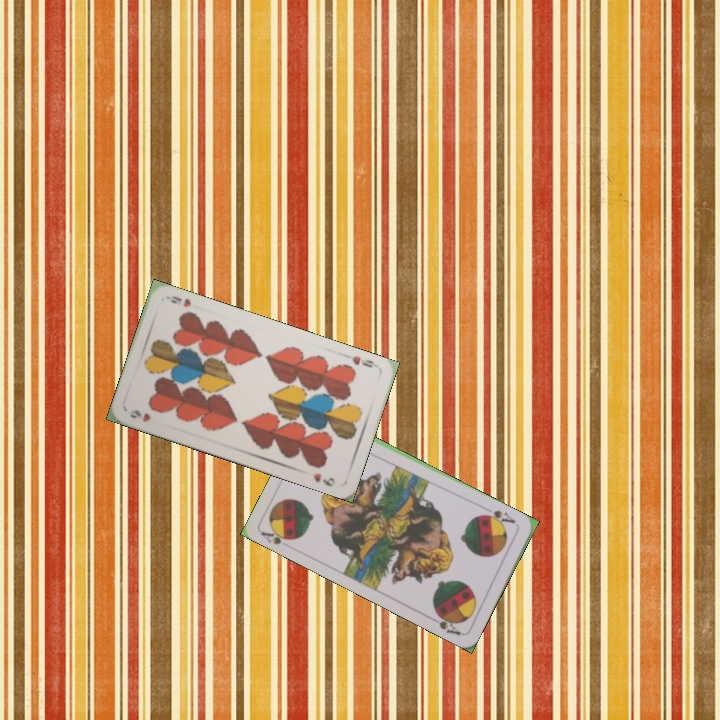H9: (126, 406, 153, 425), (348, 352, 376, 370)
SA: (257, 523, 298, 547), (479, 504, 518, 529)
